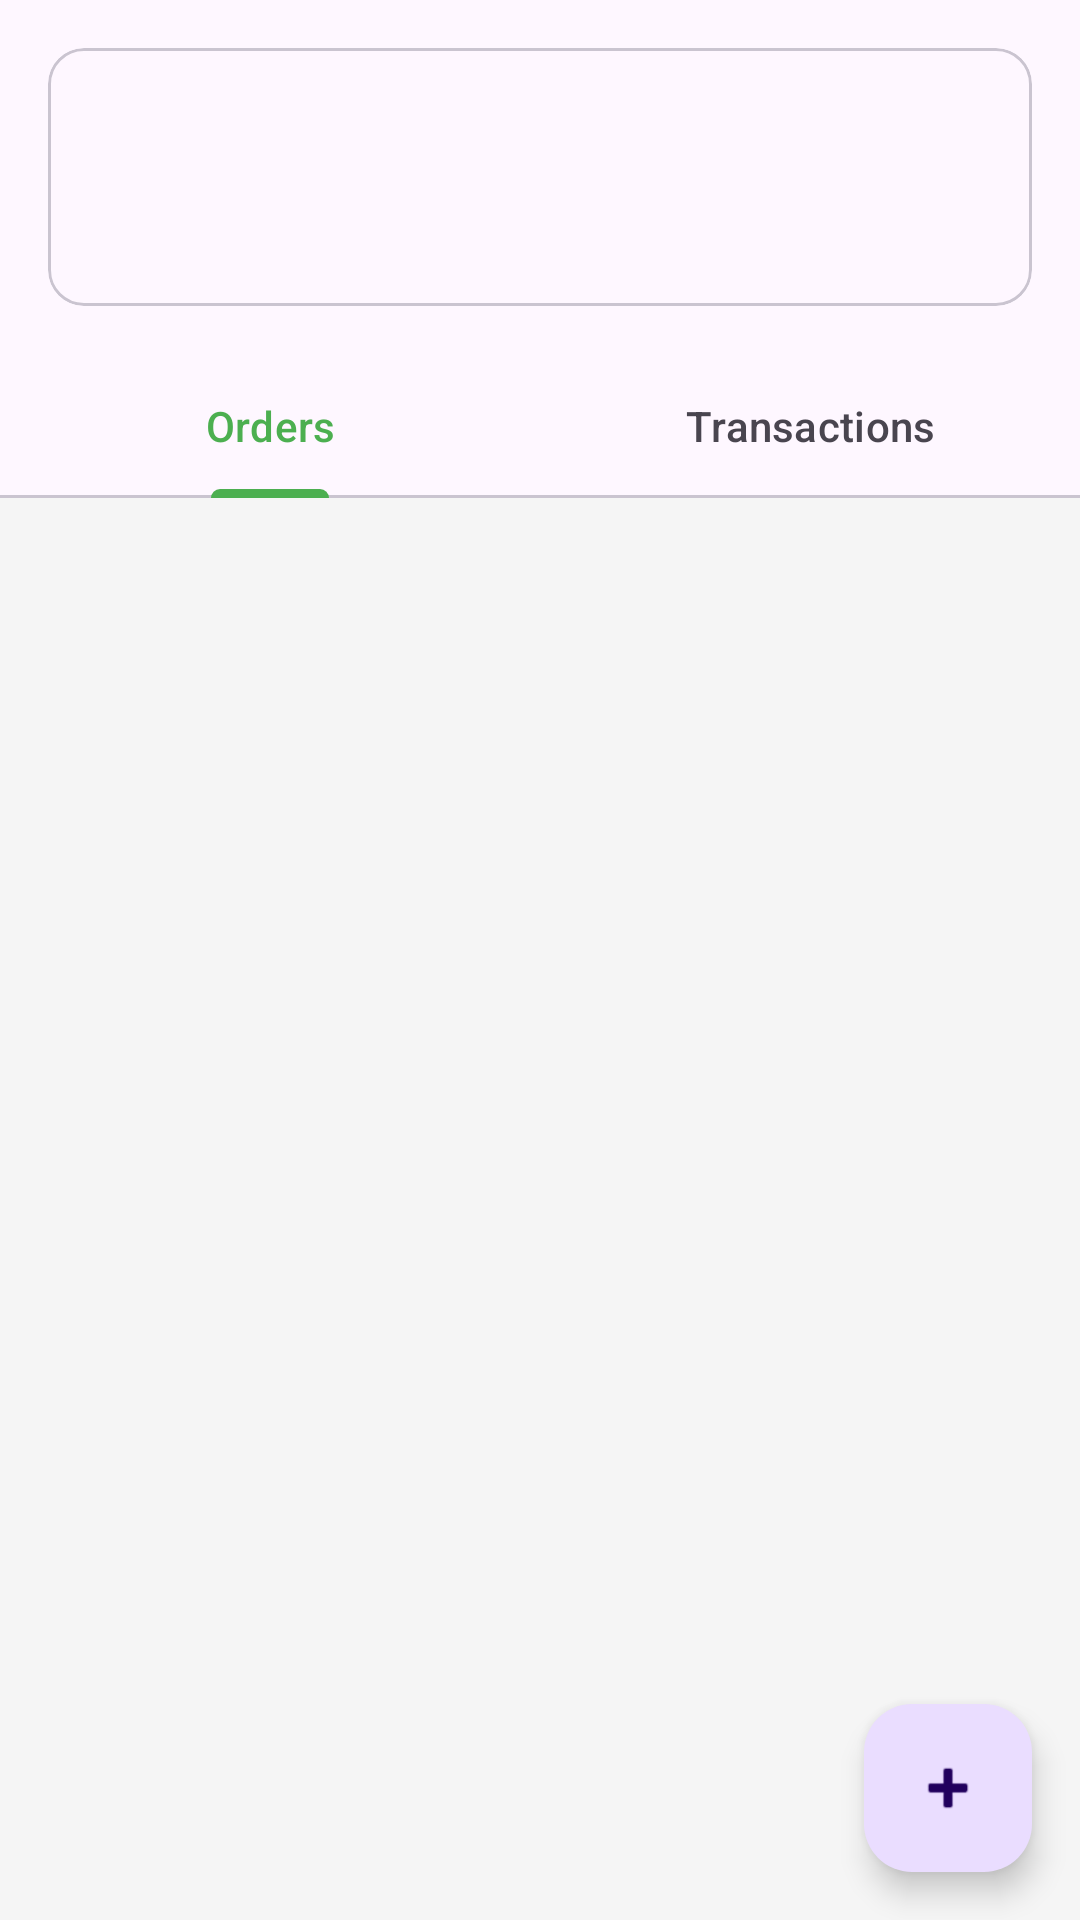

Icons on this 1080 × 1920 Android screen, each with the point to tap as (x,y):
Add new order: (948,1788)
